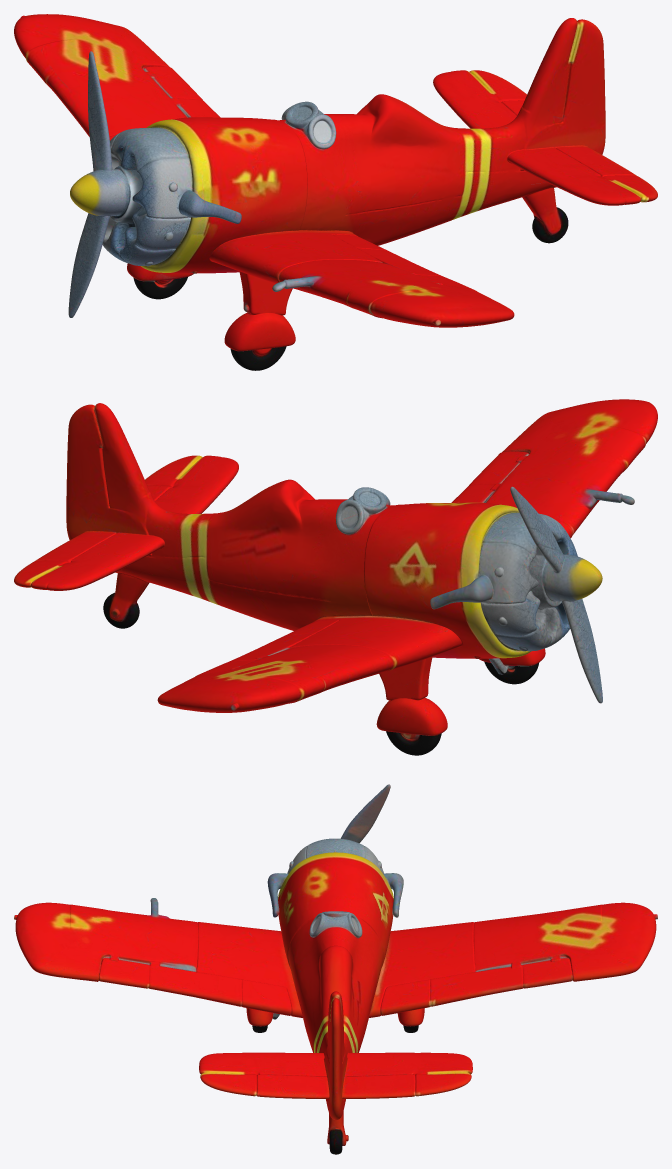
Rendered from airplane.glb.
3 views of the same model, one above another, from view 1: azimuth 30°, elevation 25°; view 2: azimuth 150°, elevation 25°; view 3: azimuth 270°, elevation 25° (orthographic). The views are drawn at different scales.
Size of the model in its own units: 1.41 by 0.6981 by 1.9.
1 material, 1 textured.
